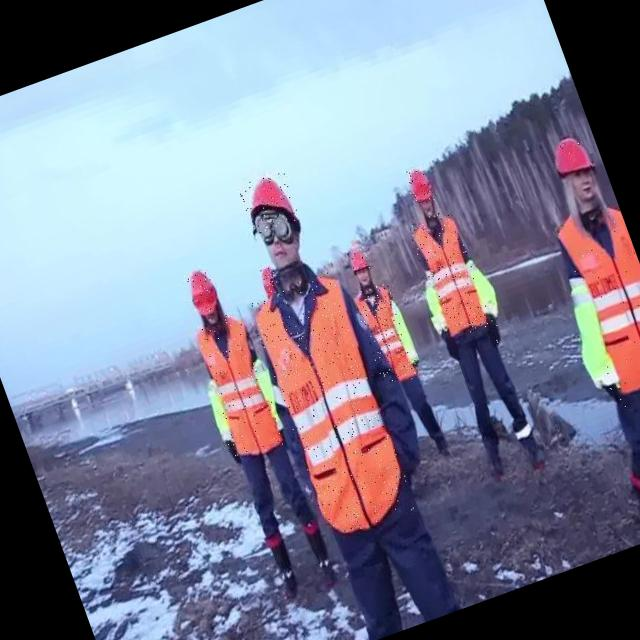hard_hat: (237, 170, 302, 236), (547, 132, 595, 179), (181, 266, 222, 317), (403, 164, 436, 207), (346, 243, 372, 276), (258, 264, 280, 292)
safety_vest: (243, 268, 417, 539), (550, 195, 640, 401), (190, 309, 288, 463), (406, 208, 494, 342), (351, 282, 421, 389)
